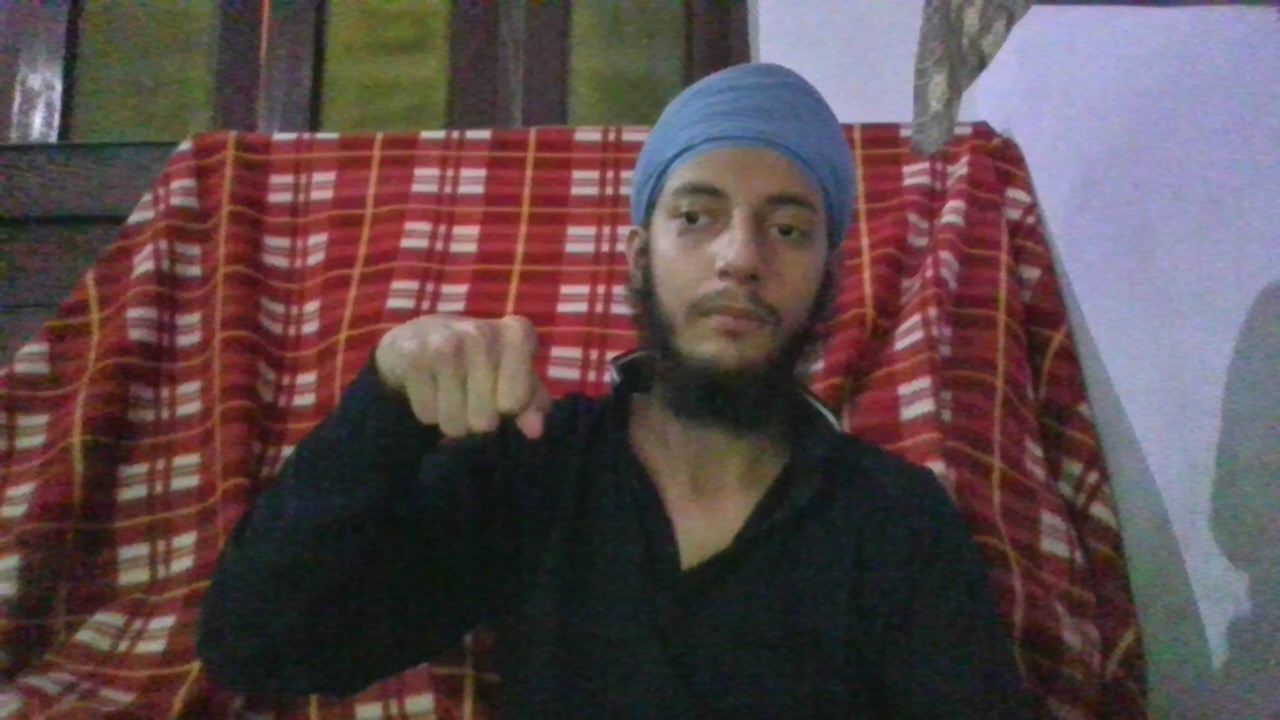Yes: (373, 311, 551, 444)
